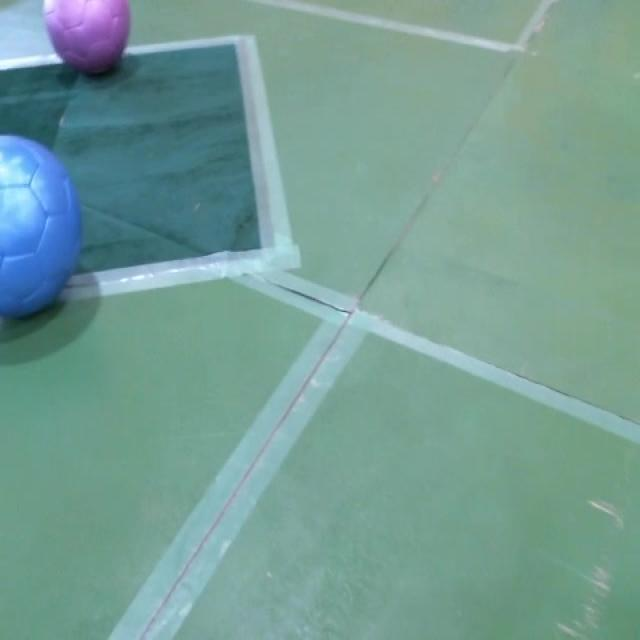blue_ball: (0, 136, 83, 318)
purple_ball: (41, 0, 131, 75)
